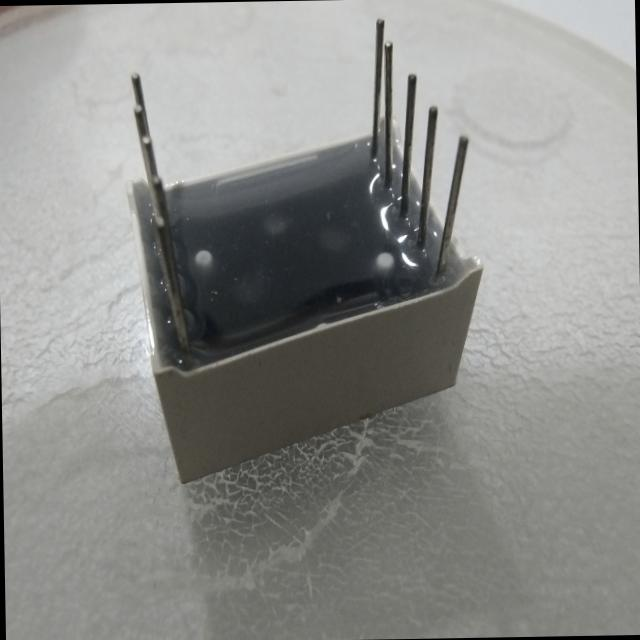7_segments: (102, 4, 496, 480)
